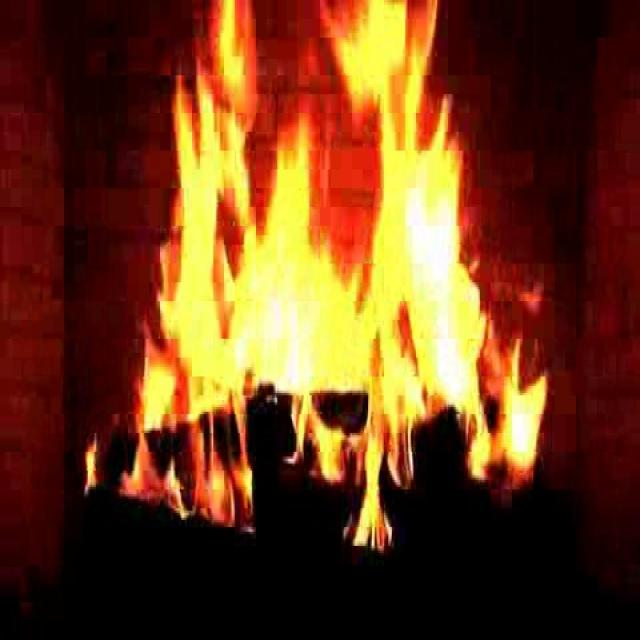fire: (140, 6, 494, 500)
